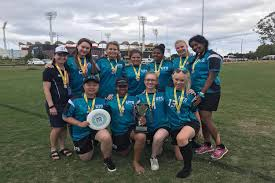disc: (87, 108, 111, 131)
